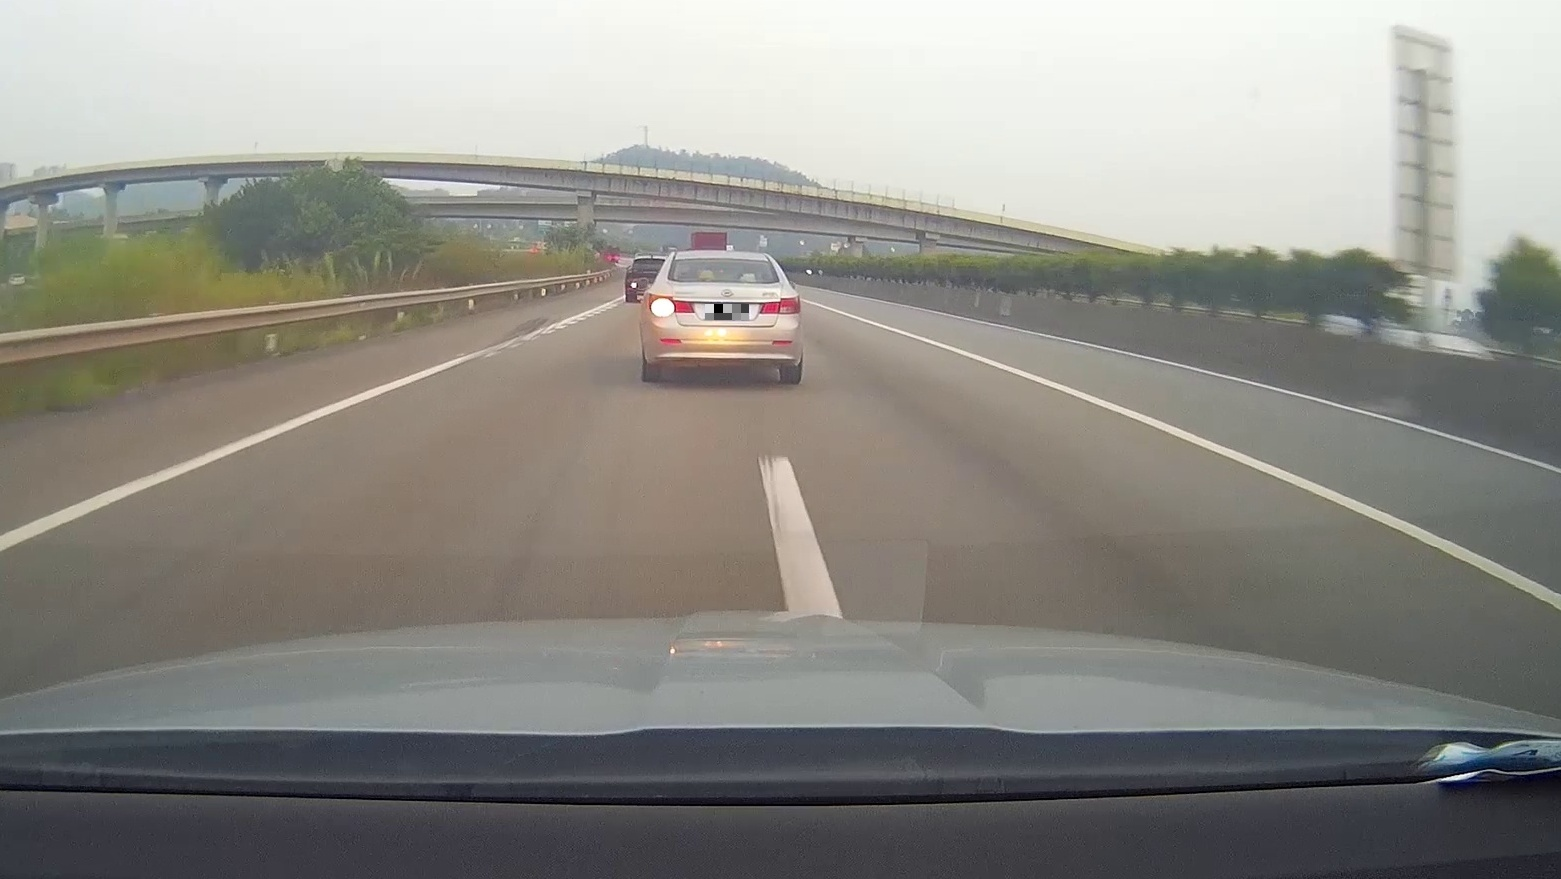L_light: (649, 293, 695, 314)
R_light: (759, 295, 801, 314)
T_light: (714, 259, 734, 262)
day-left: (641, 250, 803, 385)
plate_1: (705, 304, 749, 321)
